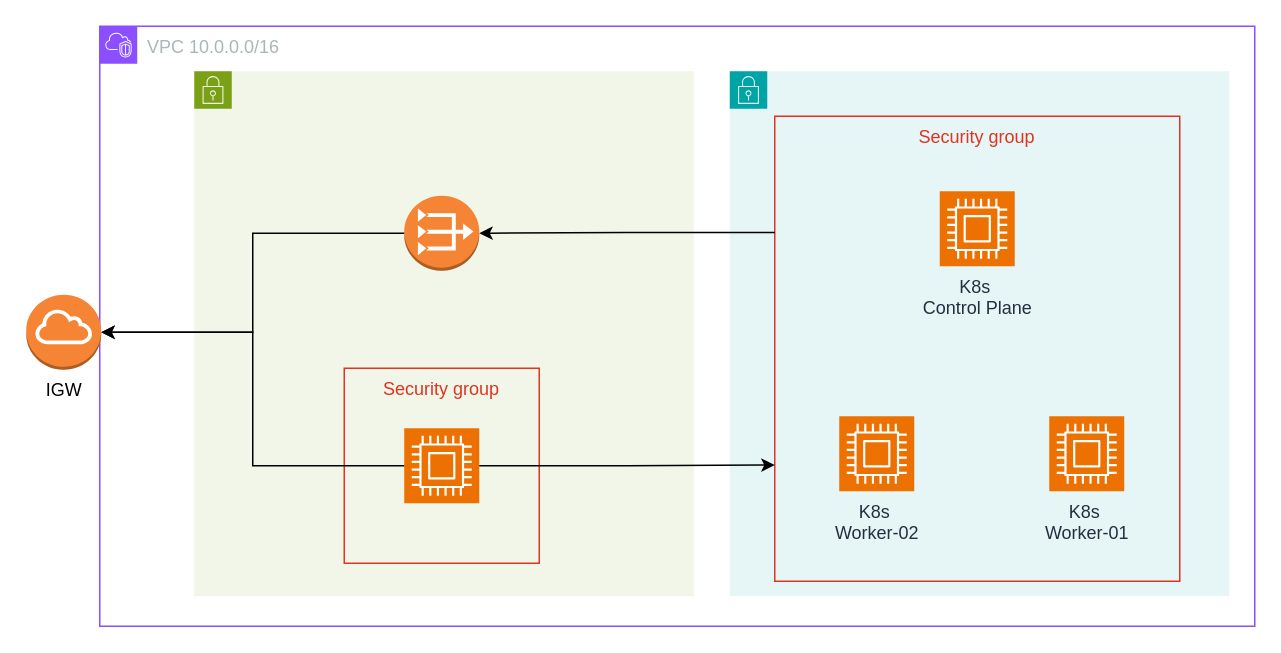
The diagram is 1281 pixels wide and 653 high, and some of its shapes have lost their labels. The box of each missing label's shape, as (x1, y1, x2, y2) in pixels:
Bastion Host: (403, 427, 479, 503)
NAT: (403, 194, 479, 271)
Private subnet 10.0.1.0/24: (728, 70, 1229, 596)
Public subnet 10.0.2.0/24: (193, 70, 694, 596)
